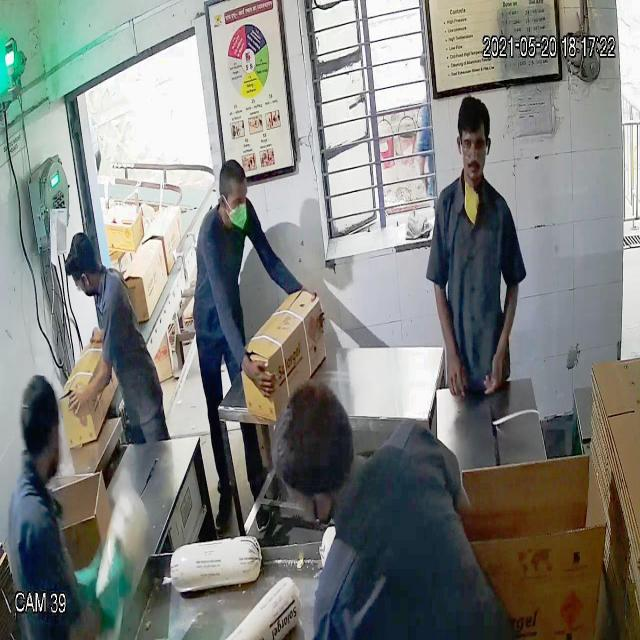glasses: (454, 130, 494, 161)
no-glass: (218, 187, 250, 214)
